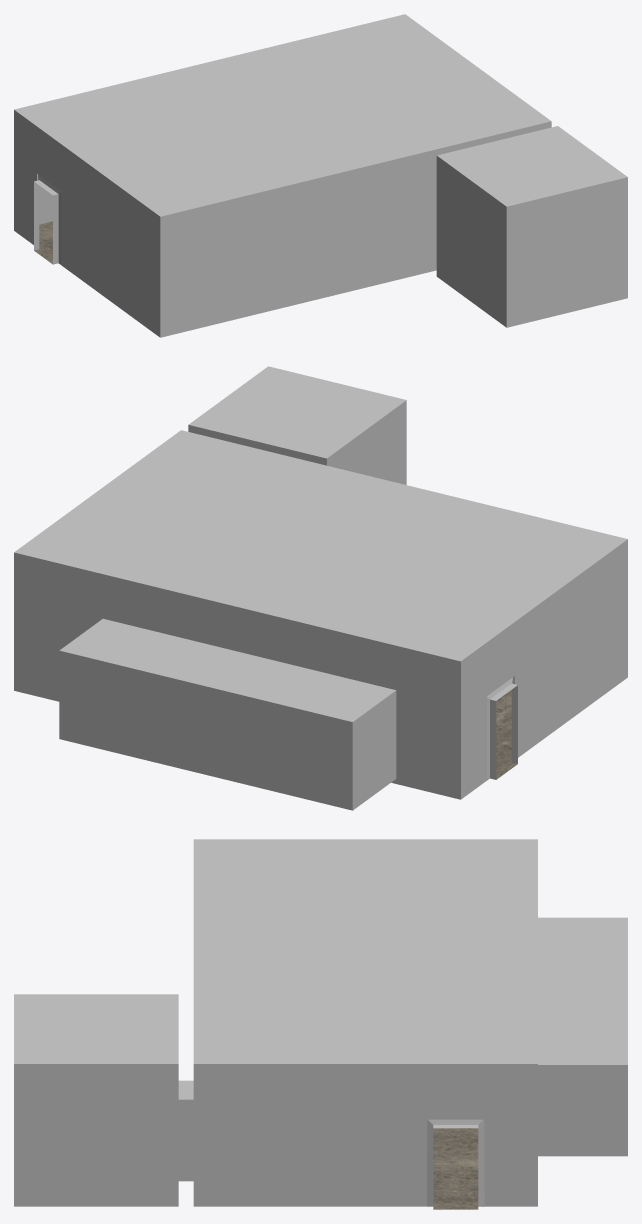
The model's file is Morgue_3x3.FBX.
3 views of the same model, one above another, from view 1: azimuth 30°, elevation 25°; view 2: azimuth 150°, elevation 25°; view 3: azimuth 270°, elevation 25° (orthographic). The views are drawn at different scales.
Parts seen in each view (by area): view 1: Morgue_3x3; view 2: Morgue_3x3; view 3: Morgue_3x3.
Part boxes in pixels (left/top/right/bottom): Morgue_3x3: left=14, top=14, right=627, bottom=337; Morgue_3x3: left=14, top=366, right=627, bottom=810; Morgue_3x3: left=14, top=839, right=627, bottom=1209.
Size of what is drawn, in the model's own units: 1437 by 413 by 1614.
